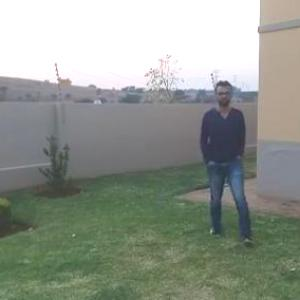follow: (198, 77, 252, 231)
